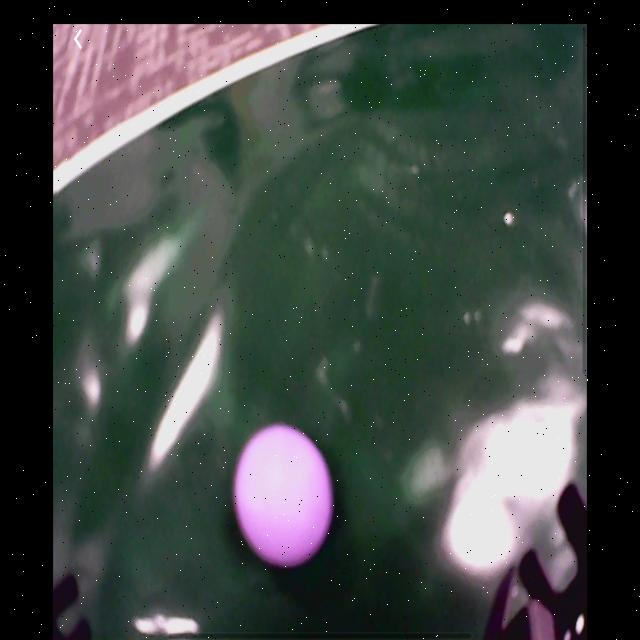ball: (231, 423, 337, 570)
